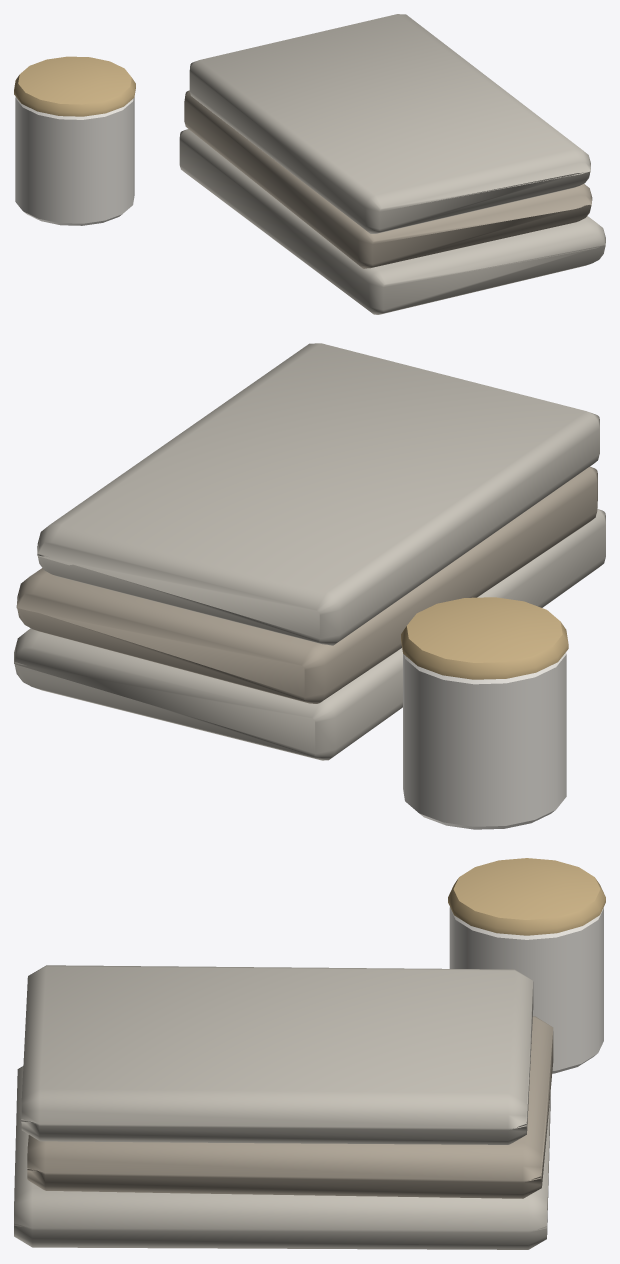
Rendered from decor_d_vanity_towels.gltf.
The picture shows the model from 3 angles, top to bottom: view 1: azimuth 30°, elevation 25°; view 2: azimuth 150°, elevation 25°; view 3: azimuth 270°, elevation 25°; orthographic projection. The views are drawn at different scales.
Parts seen in each view (by area): view 1: DecorD_VanityTowels_Ivory_NoCollide, DecorD_VanityTowels_Oat_NoCollide, DecorD_VanityTowels_Candle01_BathStone_NoCollide, DecorD_VanityTowels_Candle01_Brass_NoCollide; view 2: DecorD_VanityTowels_Ivory_NoCollide, DecorD_VanityTowels_Oat_NoCollide, DecorD_VanityTowels_Candle01_BathStone_NoCollide, DecorD_VanityTowels_Candle01_Brass_NoCollide; view 3: DecorD_VanityTowels_Ivory_NoCollide, DecorD_VanityTowels_Oat_NoCollide, DecorD_VanityTowels_Candle01_BathStone_NoCollide, DecorD_VanityTowels_Candle01_Brass_NoCollide.
Part boxes in pixels (x1,y1,x2,y2): DecorD_VanityTowels_Ivory_NoCollide: [179, 14, 605, 314]; DecorD_VanityTowels_Oat_NoCollide: [184, 90, 592, 268]; DecorD_VanityTowels_Candle01_BathStone_NoCollide: [15, 97, 134, 225]; DecorD_VanityTowels_Candle01_Brass_NoCollide: [14, 56, 135, 116]; DecorD_VanityTowels_Ivory_NoCollide: [14, 343, 605, 760]; DecorD_VanityTowels_Oat_NoCollide: [16, 466, 597, 703]; DecorD_VanityTowels_Candle01_BathStone_NoCollide: [403, 652, 566, 829]; DecorD_VanityTowels_Candle01_Brass_NoCollide: [401, 597, 568, 679]; DecorD_VanityTowels_Ivory_NoCollide: [14, 965, 550, 1249]; DecorD_VanityTowels_Oat_NoCollide: [27, 1016, 553, 1198]; DecorD_VanityTowels_Candle01_BathStone_NoCollide: [449, 907, 603, 1073]; DecorD_VanityTowels_Candle01_Brass_NoCollide: [448, 858, 605, 935].
Size of the model in its own units: 0.319 by 0.097 by 0.3221.
